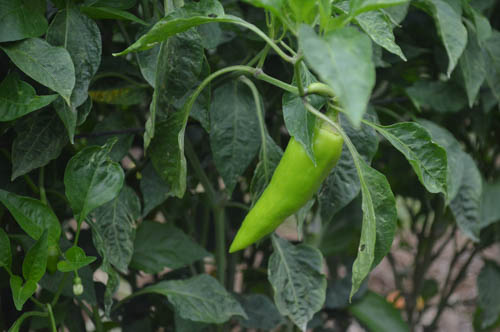ChiliPepper: (227, 127, 346, 255)
